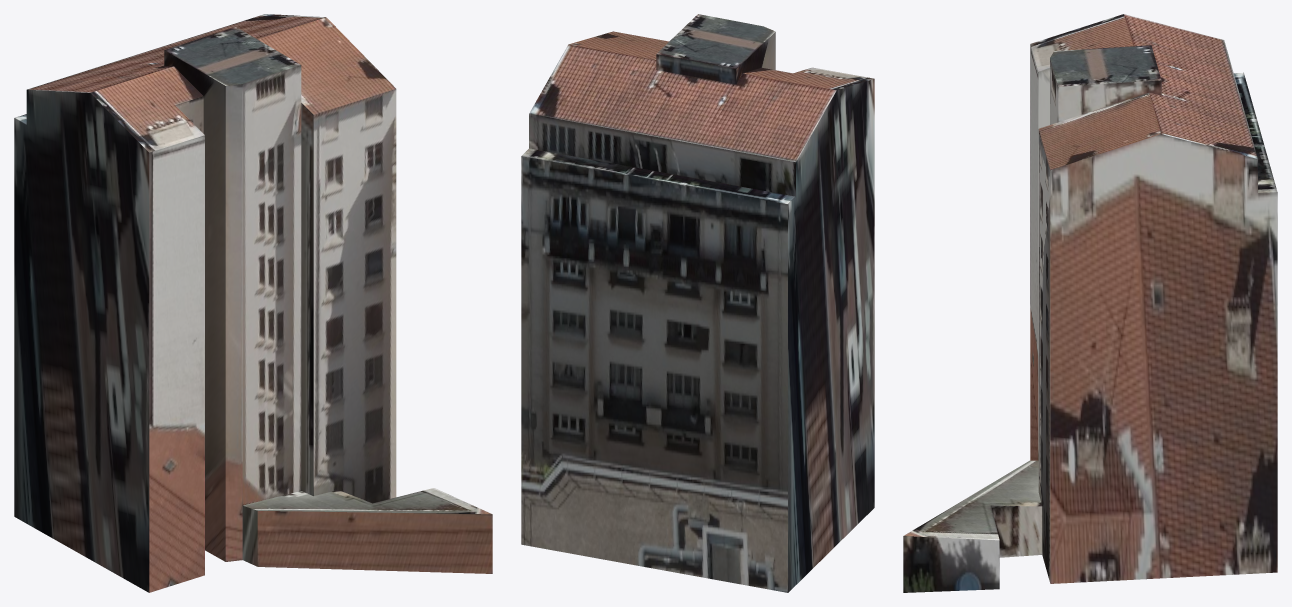
The picture shows the model from 3 angles, left to right: view 1: azimuth 30°, elevation 25°; view 2: azimuth 150°, elevation 25°; view 3: azimuth 270°, elevation 25°; orthographic projection. The views are drawn at different scales.
Parts seen in each view (by area): view 1: Z_UP; view 2: Z_UP; view 3: Z_UP.
Boxes of the visible parts, left/top/right/bottom form: Z_UP: left=14, top=14, right=492, bottom=592; Z_UP: left=521, top=14, right=874, bottom=592; Z_UP: left=903, top=14, right=1277, bottom=592.
Size of the model in its own units: 18.88 by 28.73 by 21.36.
2 materials, 1 textured.
